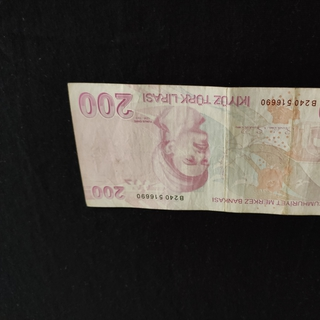200TLBack: (66, 82, 320, 219)
